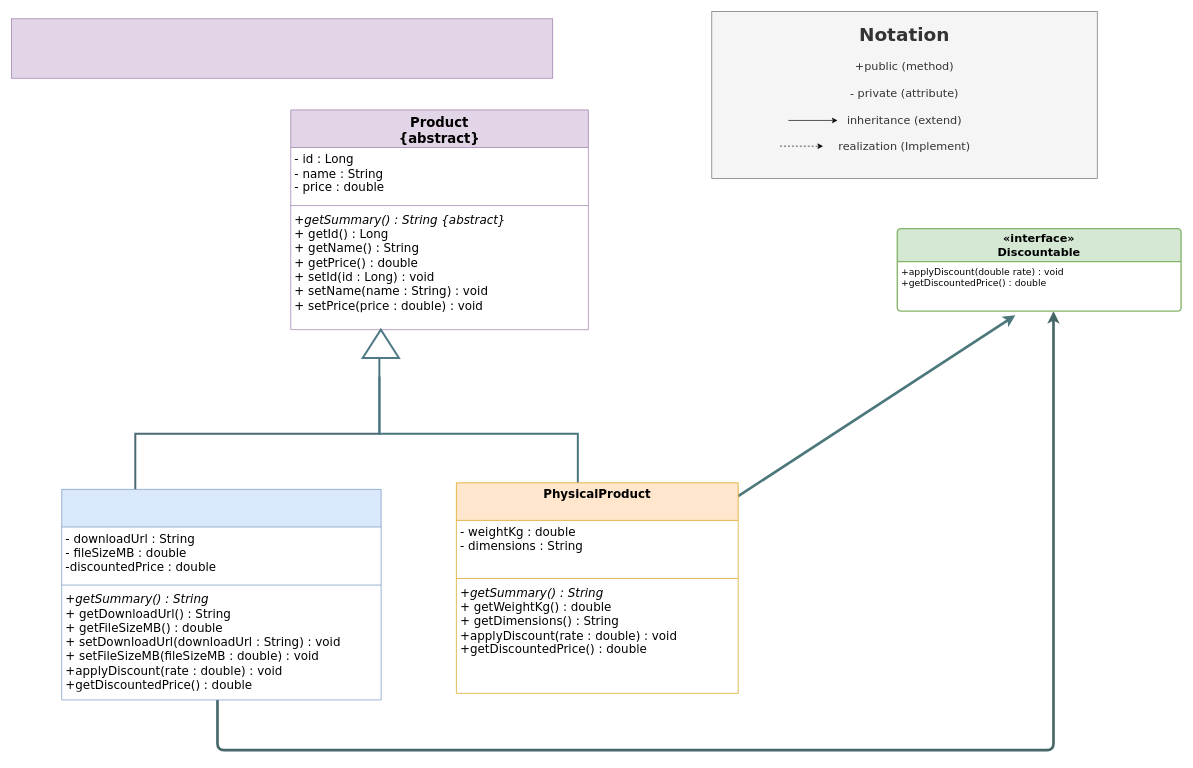
This 1193x768 diagram has some shape labels left out. The box of each missing label's shape, as (x1, y1, x2, y2) in pixels:
DigitalProduct: (61, 489, 381, 700)
Product API - UML class diagram (polymorphism, Abstraction and Interfaces): (11, 18, 553, 78)
